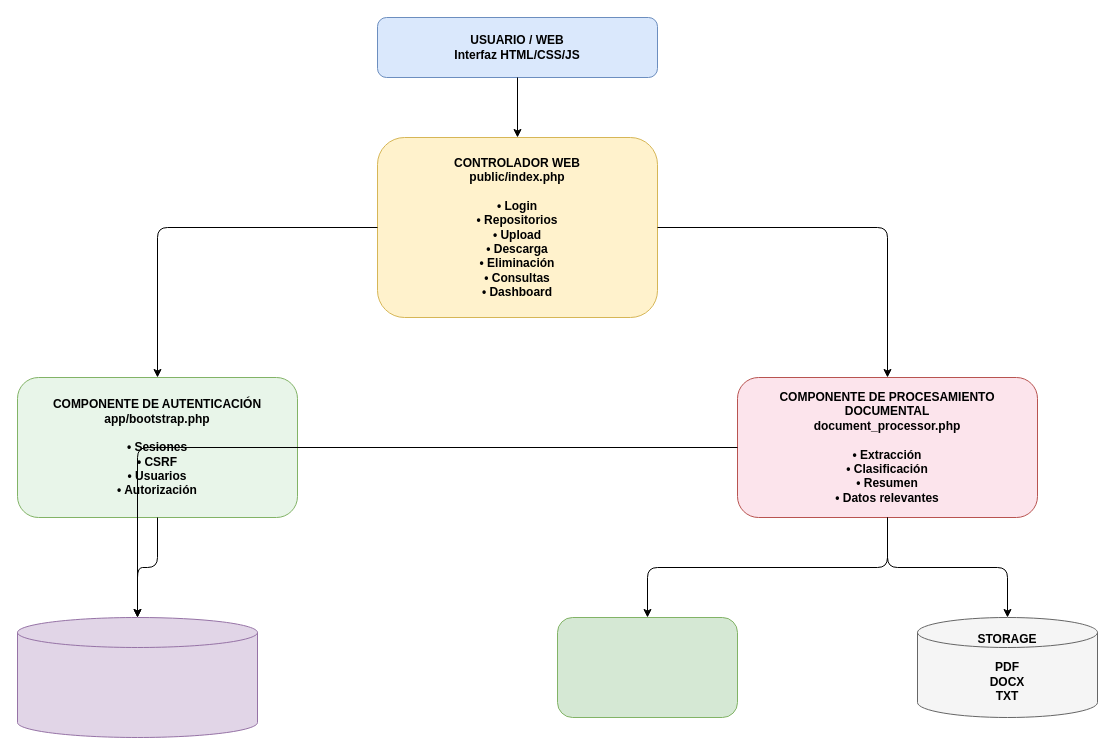
The diagram is 1115 pixels wide and 755 high, and some of its shapes have lost their labels. Each missing label, with the box of its shape:
MySQL / MariaDB • users • repositories • documents • processing_logs: (16, 616, 258, 738)
OLLAMA llama3.2 Análisis IA: (556, 616, 738, 718)
